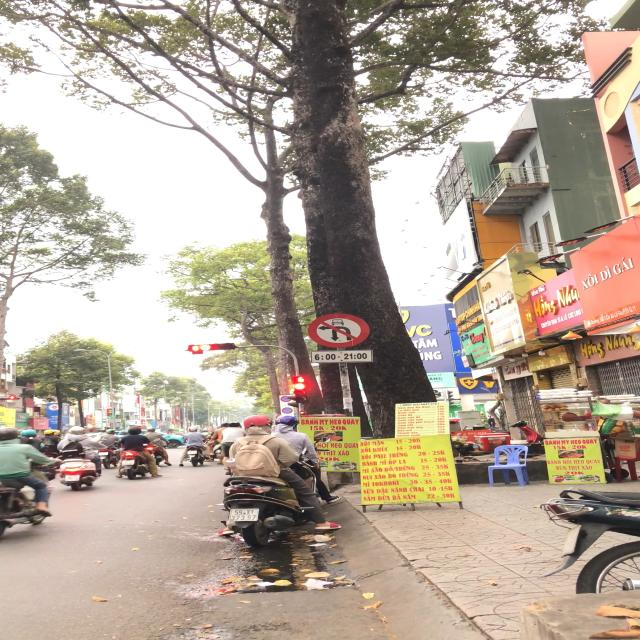Bien bao cam oto re trai va quay dau xe: (302, 312, 371, 349)
